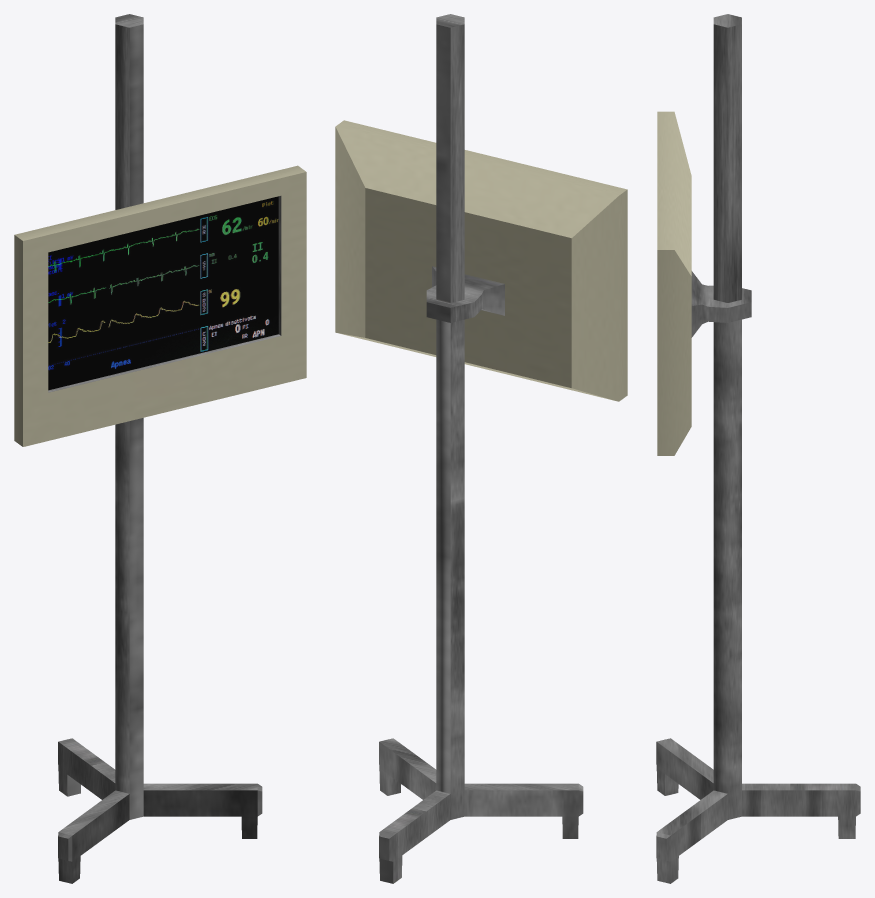
Rendered from hartmonitorwithtexture.obj.
The picture shows the model from 3 angles, left to right: view 1: azimuth 30°, elevation 25°; view 2: azimuth 150°, elevation 25°; view 3: azimuth 270°, elevation 25°; orthographic projection.
Parts seen in each view (by area): view 1: Box003; view 2: Box003; view 3: Box003.
Boxes of the visible parts, <box> form: Box003: <box>14,14,306,883</box>; Box003: <box>335,14,627,883</box>; Box003: <box>656,14,860,883</box>.
Size of the model in its own units: 71.99 by 198 by 44.88.
